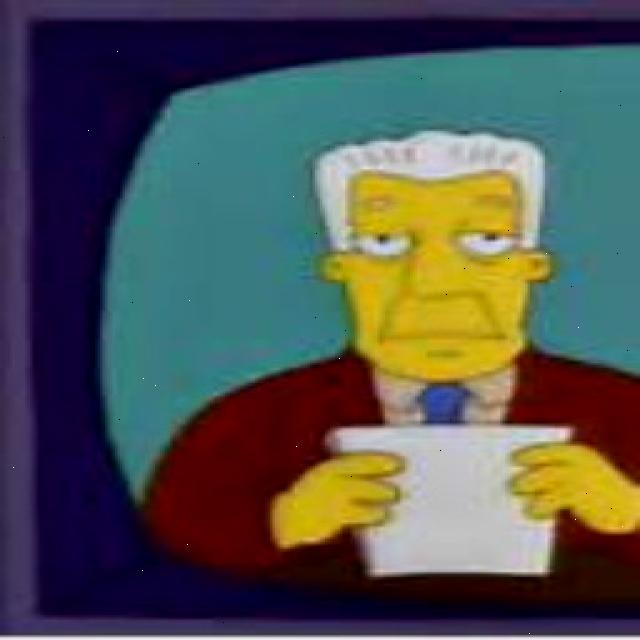Kent Brockman: (309, 127, 561, 387)
